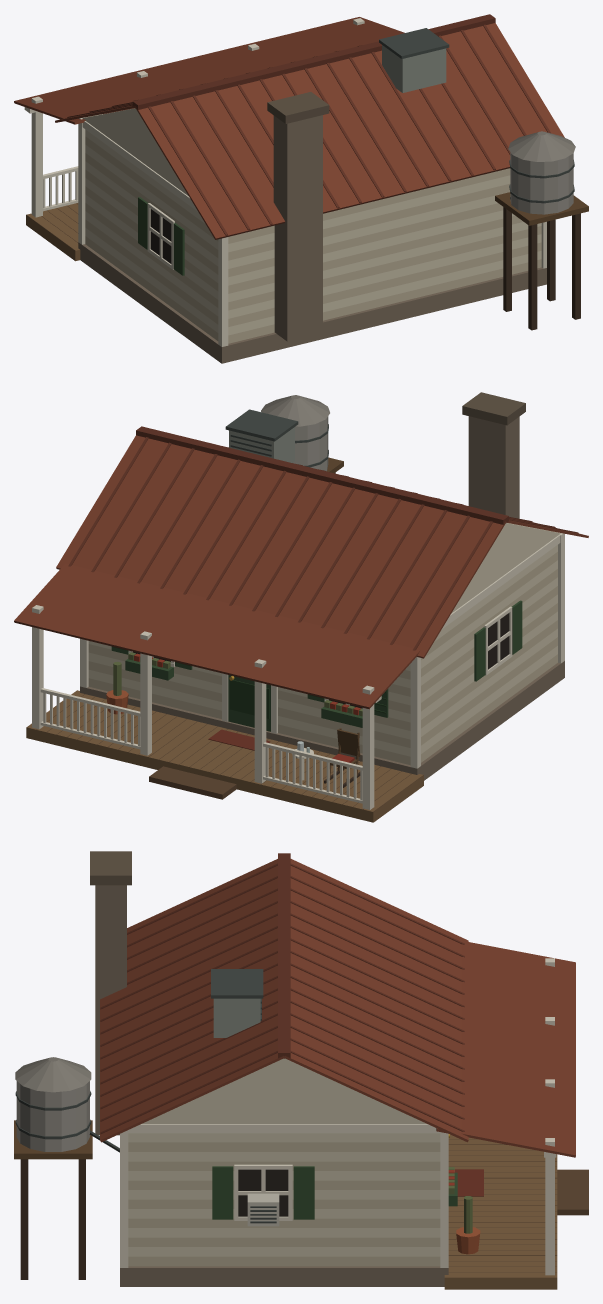
Rendered from SuptHouse2.glb.
3 views of the same model, one above another, from view 1: azimuth 30°, elevation 25°; view 2: azimuth 150°, elevation 25°; view 3: azimuth 270°, elevation 25° (orthographic). The views are drawn at different scales.
Parts seen in each view (by area): view 1: SuptHouse2; view 2: SuptHouse2; view 3: SuptHouse2.
Boxes of the visible parts, x1,y1,x2,y2 form: SuptHouse2: (14,14,588,363); SuptHouse2: (14,392,588,822); SuptHouse2: (14,851,588,1289).
Bounding box in the file's own units: 9.02 × 5.9 × 10.95.
